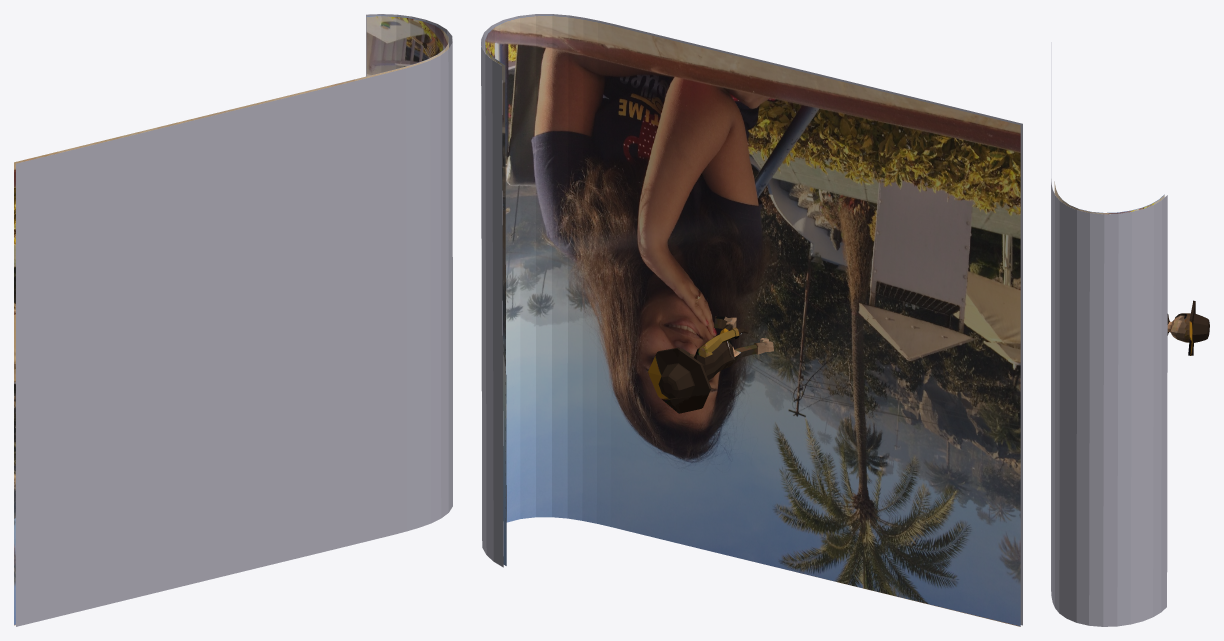
File: start_file2_000065.obj
3 renders of one model, left to right at view 1: azimuth 30°, elevation 25°; view 2: azimuth 150°, elevation 25°; view 3: azimuth 270°, elevation 25°, orthographic. The views are drawn at different scales.
Parts seen in each view (by area): view 1: Cube_Cube.001; view 2: Cube_Cube.001, Character_Cube; view 3: Cube_Cube.001, Character_Cube.
Boxes of the visible parts, left/top/right/bottom form: Cube_Cube.001: left=14, top=14, right=452, bottom=626; Cube_Cube.001: left=481, top=14, right=1022, bottom=626; Character_Cube: left=647, top=316, right=773, bottom=413; Cube_Cube.001: left=1051, top=42, right=1167, bottom=626; Character_Cube: left=1167, top=300, right=1209, bottom=355.
Size of the model in its own units: 1.59 by 1.52 by 0.5313.
Materials: 2 (2 with a texture image).
